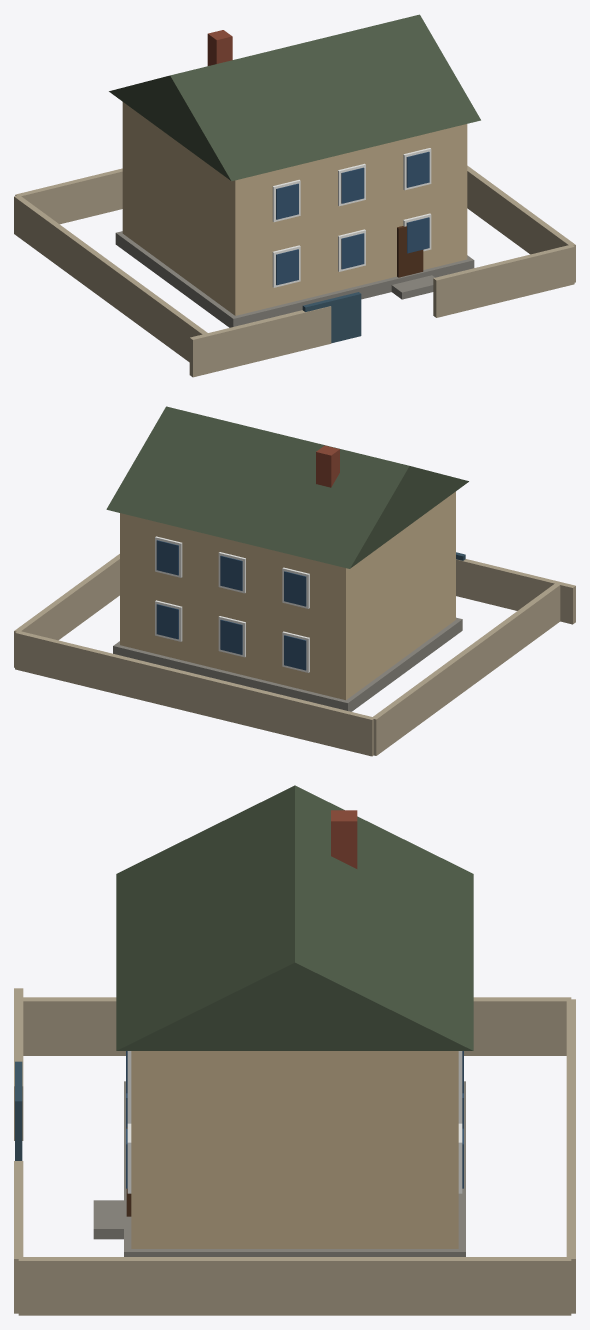
The model's file is house1.glb.
3 views of the same model, one above another, from view 1: azimuth 30°, elevation 25°; view 2: azimuth 150°, elevation 25°; view 3: azimuth 270°, elevation 25° (orthographic). The views are drawn at different scales.
Visible parts, largest first — view 1: House; view 2: House; view 3: House.
Boxes of the visible parts, x1=… form: House: x1=14, y1=14, x2=575, y2=377; House: x1=14, y1=406, x2=575, y2=756; House: x1=14, y1=785, x2=575, y2=1315.
Bounding box in the file's own units: 17.18 × 9.6 × 14.96.
